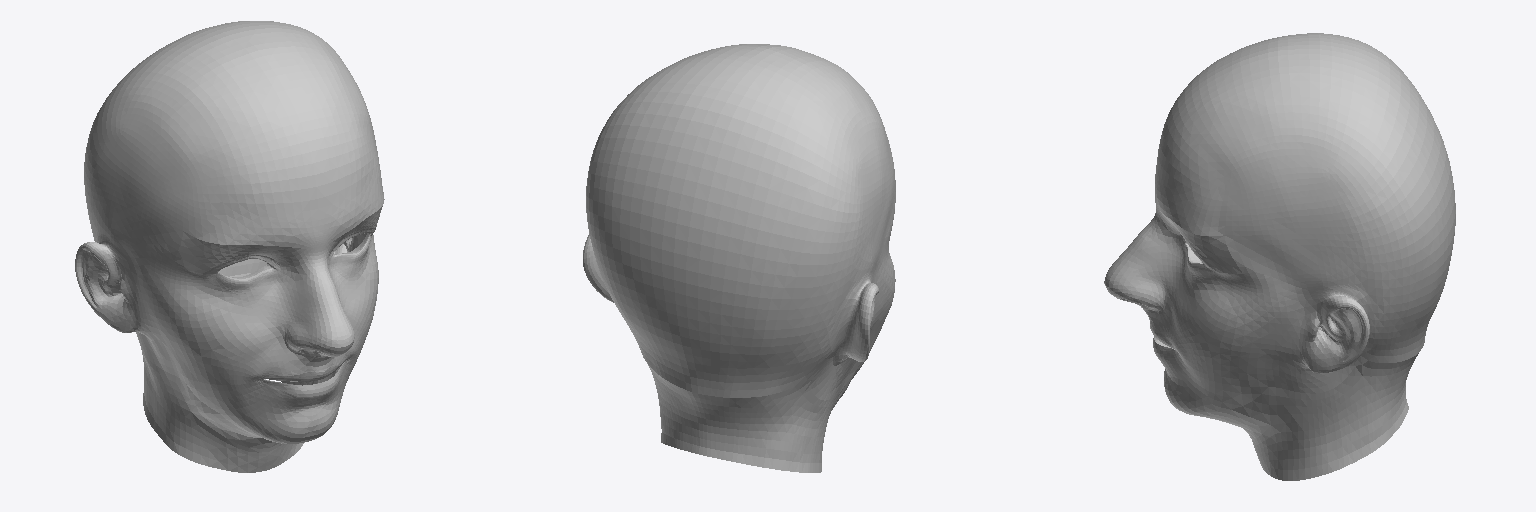
Rendered from p2a_headFemale.obj.
The picture shows the model from 3 angles: view 1: azimuth 30°, elevation 25°; view 2: azimuth 150°, elevation 25°; view 3: azimuth 270°, elevation 25°; orthographic projection.
Size of the model in its own units: 0.217 by 0.3048 by 0.2335.